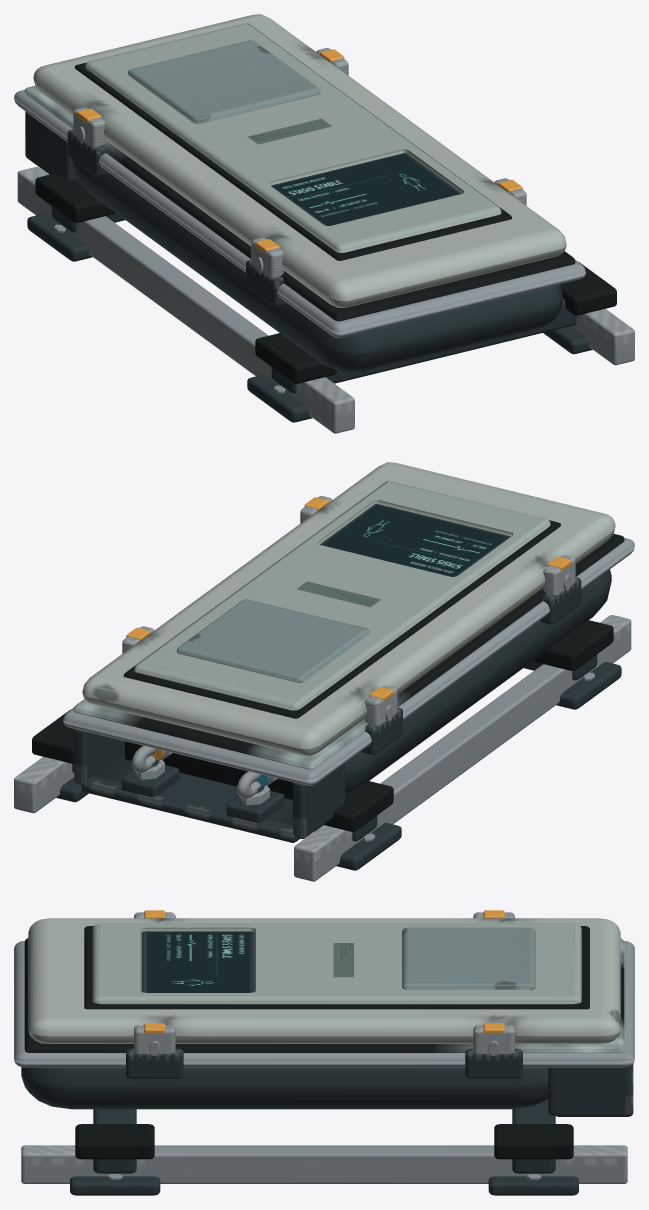
The model's file is sealed-cryo.glb.
3 renders of one model, top to bottom at view 1: azimuth 30°, elevation 25°; view 2: azimuth 150°, elevation 25°; view 3: azimuth 270°, elevation 25°, orthographic. The views are drawn at different scales.
Parts seen in each view (by area): view 1: Batch 01 warm ceramic enamel, Batch 02 graphite powdercoat, Batch 03 satin stainless, Batch 04 EPDM gasket, Batch 08 recessed medical LCD atlas, Batch 05 safety ochre, Batch 09 enamel silkscreen atlas; view 2: Batch 01 warm ceramic enamel, Batch 03 satin stainless, Batch 02 graphite powdercoat, Batch 04 EPDM gasket, Batch 08 recessed medical LCD atlas, Batch 05 safety ochre, Batch 09 enamel silkscreen atlas; view 3: Batch 01 warm ceramic enamel, Batch 02 graphite powdercoat, Batch 03 satin stainless, Batch 04 EPDM gasket, Batch 08 recessed medical LCD atlas, Batch 05 safety ochre, Batch 09 enamel silkscreen atlas.
Boxes of the visible parts, x1,y1,x2,y2 form: Batch 01 warm ceramic enamel: (33, 14, 566, 307); Batch 02 graphite powdercoat: (25, 111, 592, 422); Batch 03 satin stainless: (14, 48, 634, 433); Batch 04 EPDM gasket: (24, 23, 616, 383); Batch 08 recessed medical LCD atlas: (273, 154, 458, 225); Batch 05 safety ochre: (77, 49, 522, 253); Batch 09 enamel silkscreen atlas: (247, 118, 331, 144); Batch 01 warm ceramic enamel: (82, 462, 615, 755); Batch 03 satin stainless: (14, 496, 634, 881); Batch 02 graphite powdercoat: (56, 503, 621, 870); Batch 04 EPDM gasket: (32, 481, 624, 831); Batch 08 recessed medical LCD atlas: (322, 505, 507, 576); Batch 05 safety ochre: (126, 497, 571, 761); Batch 09 enamel silkscreen atlas: (296, 581, 380, 607); Batch 01 warm ceramic enamel: (28, 918, 620, 1043); Batch 02 graphite powdercoat: (21, 931, 633, 1195); Batch 03 satin stainless: (14, 912, 634, 1183); Batch 04 EPDM gasket: (24, 926, 624, 1159); Batch 08 recessed medical LCD atlas: (145, 932, 250, 992); Batch 05 safety ochre: (144, 910, 504, 1033); Batch 09 enamel silkscreen atlas: (333, 943, 353, 977).
Size of the model in its own units: 1.53 by 0.694 by 2.58.
Materials: 8 (6 with a texture image).
